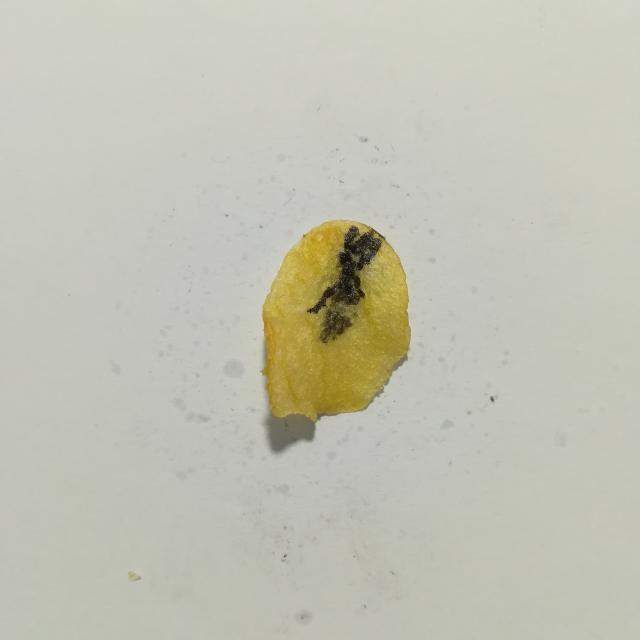chip: (263, 220, 410, 421)
damaged: (308, 226, 382, 314), (321, 311, 350, 342)
semi-damaged: (329, 298, 354, 321)
